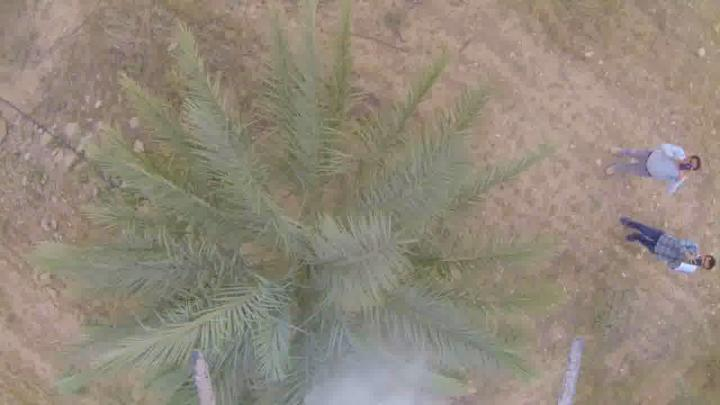Date-Palm-Crown: (178, 97, 442, 405)
